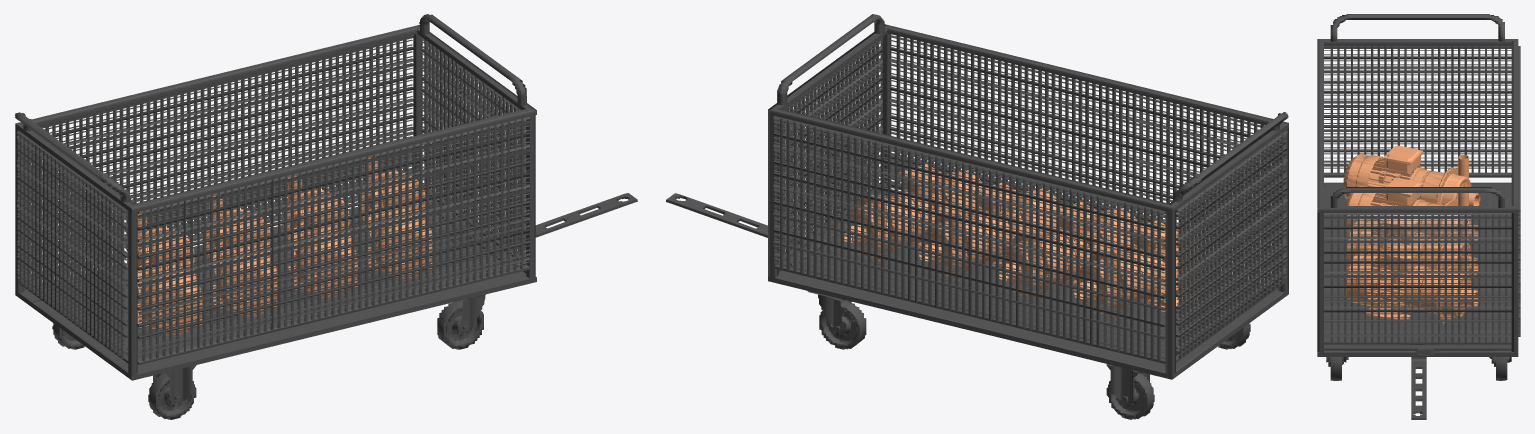
The model's file is amr50-trolley-color.glb.
3 views of the same model, side by side, from view 1: azimuth 30°, elevation 25°; view 2: azimuth 150°, elevation 25°; view 3: azimuth 270°, elevation 25° (orthographic). The views are drawn at different scales.
Visible parts, largest first — view 1: Trolley, Components (×3); view 2: Trolley, Components (×3); view 3: Trolley, Components (×3).
Boxes of the visible parts, x1,y1,x2,y2 form: Trolley: (14,14,637,419); Components (×3): (127,157,432,335); Trolley: (666,14,1288,419); Components (×3): (844,164,1217,318); Trolley: (1317,14,1520,419); Components (×3): (1343,145,1480,323).
Bounding box in the file's own units: 1.06 × 0.4463 × 0.3796.
